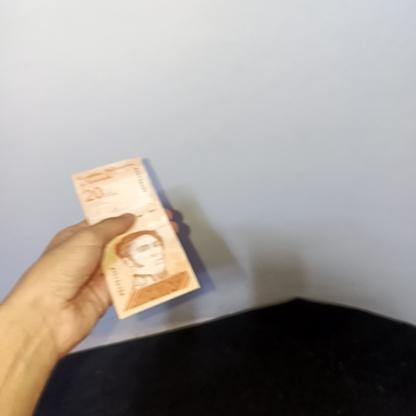vef_front: (70, 155, 200, 319)
